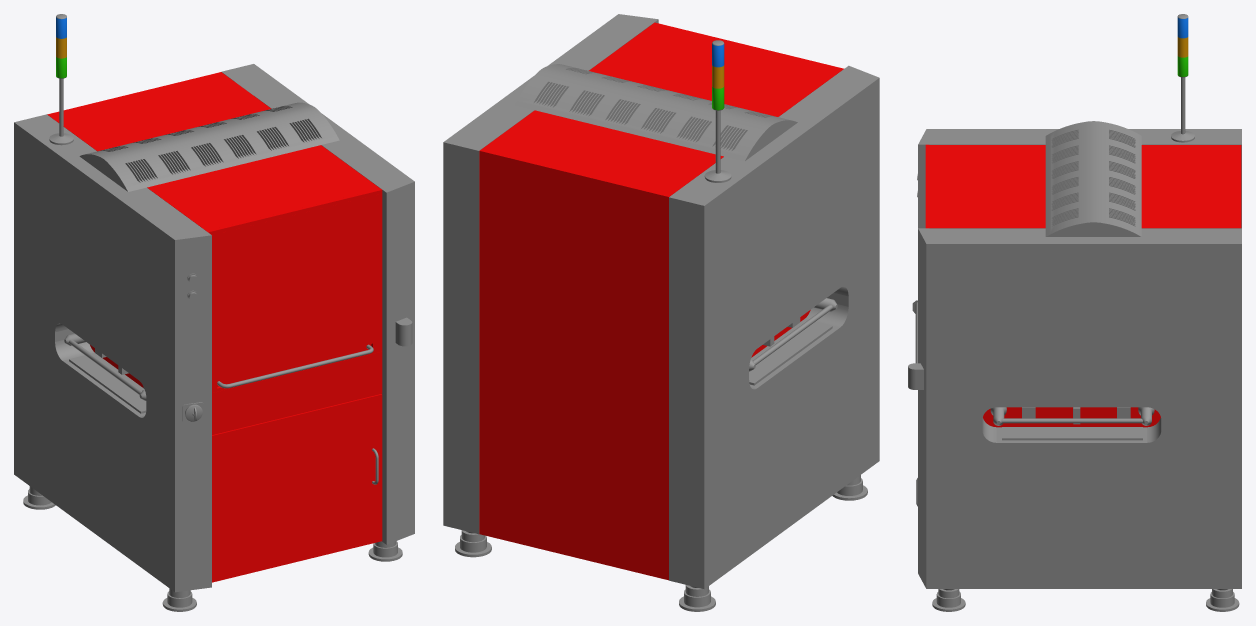
Rendered from prop01_1.FBX.
The picture shows the model from 3 angles, left to right: view 1: azimuth 30°, elevation 25°; view 2: azimuth 150°, elevation 25°; view 3: azimuth 270°, elevation 25°; orthographic projection. The views are drawn at different scales.
Visible parts, largest first — view 1: B; view 2: B; view 3: B.
Boxes of the visible parts, x1,y1,x2,y2 form: B: (14,14,414,611); B: (443,14,879,611); B: (908,14,1241,611).
Bounding box in the file's own units: 108 × 216 × 133.
